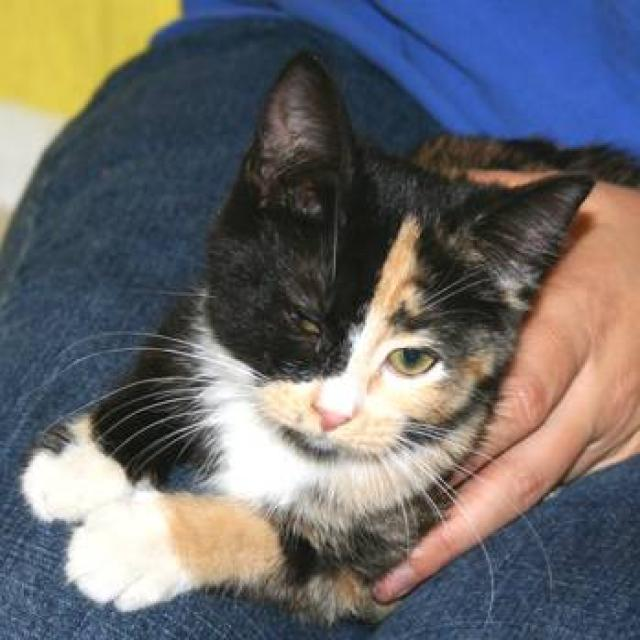cat: (17, 48, 638, 627)
